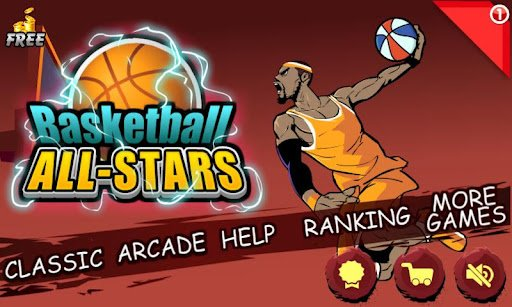ball: (375, 17, 418, 62)
